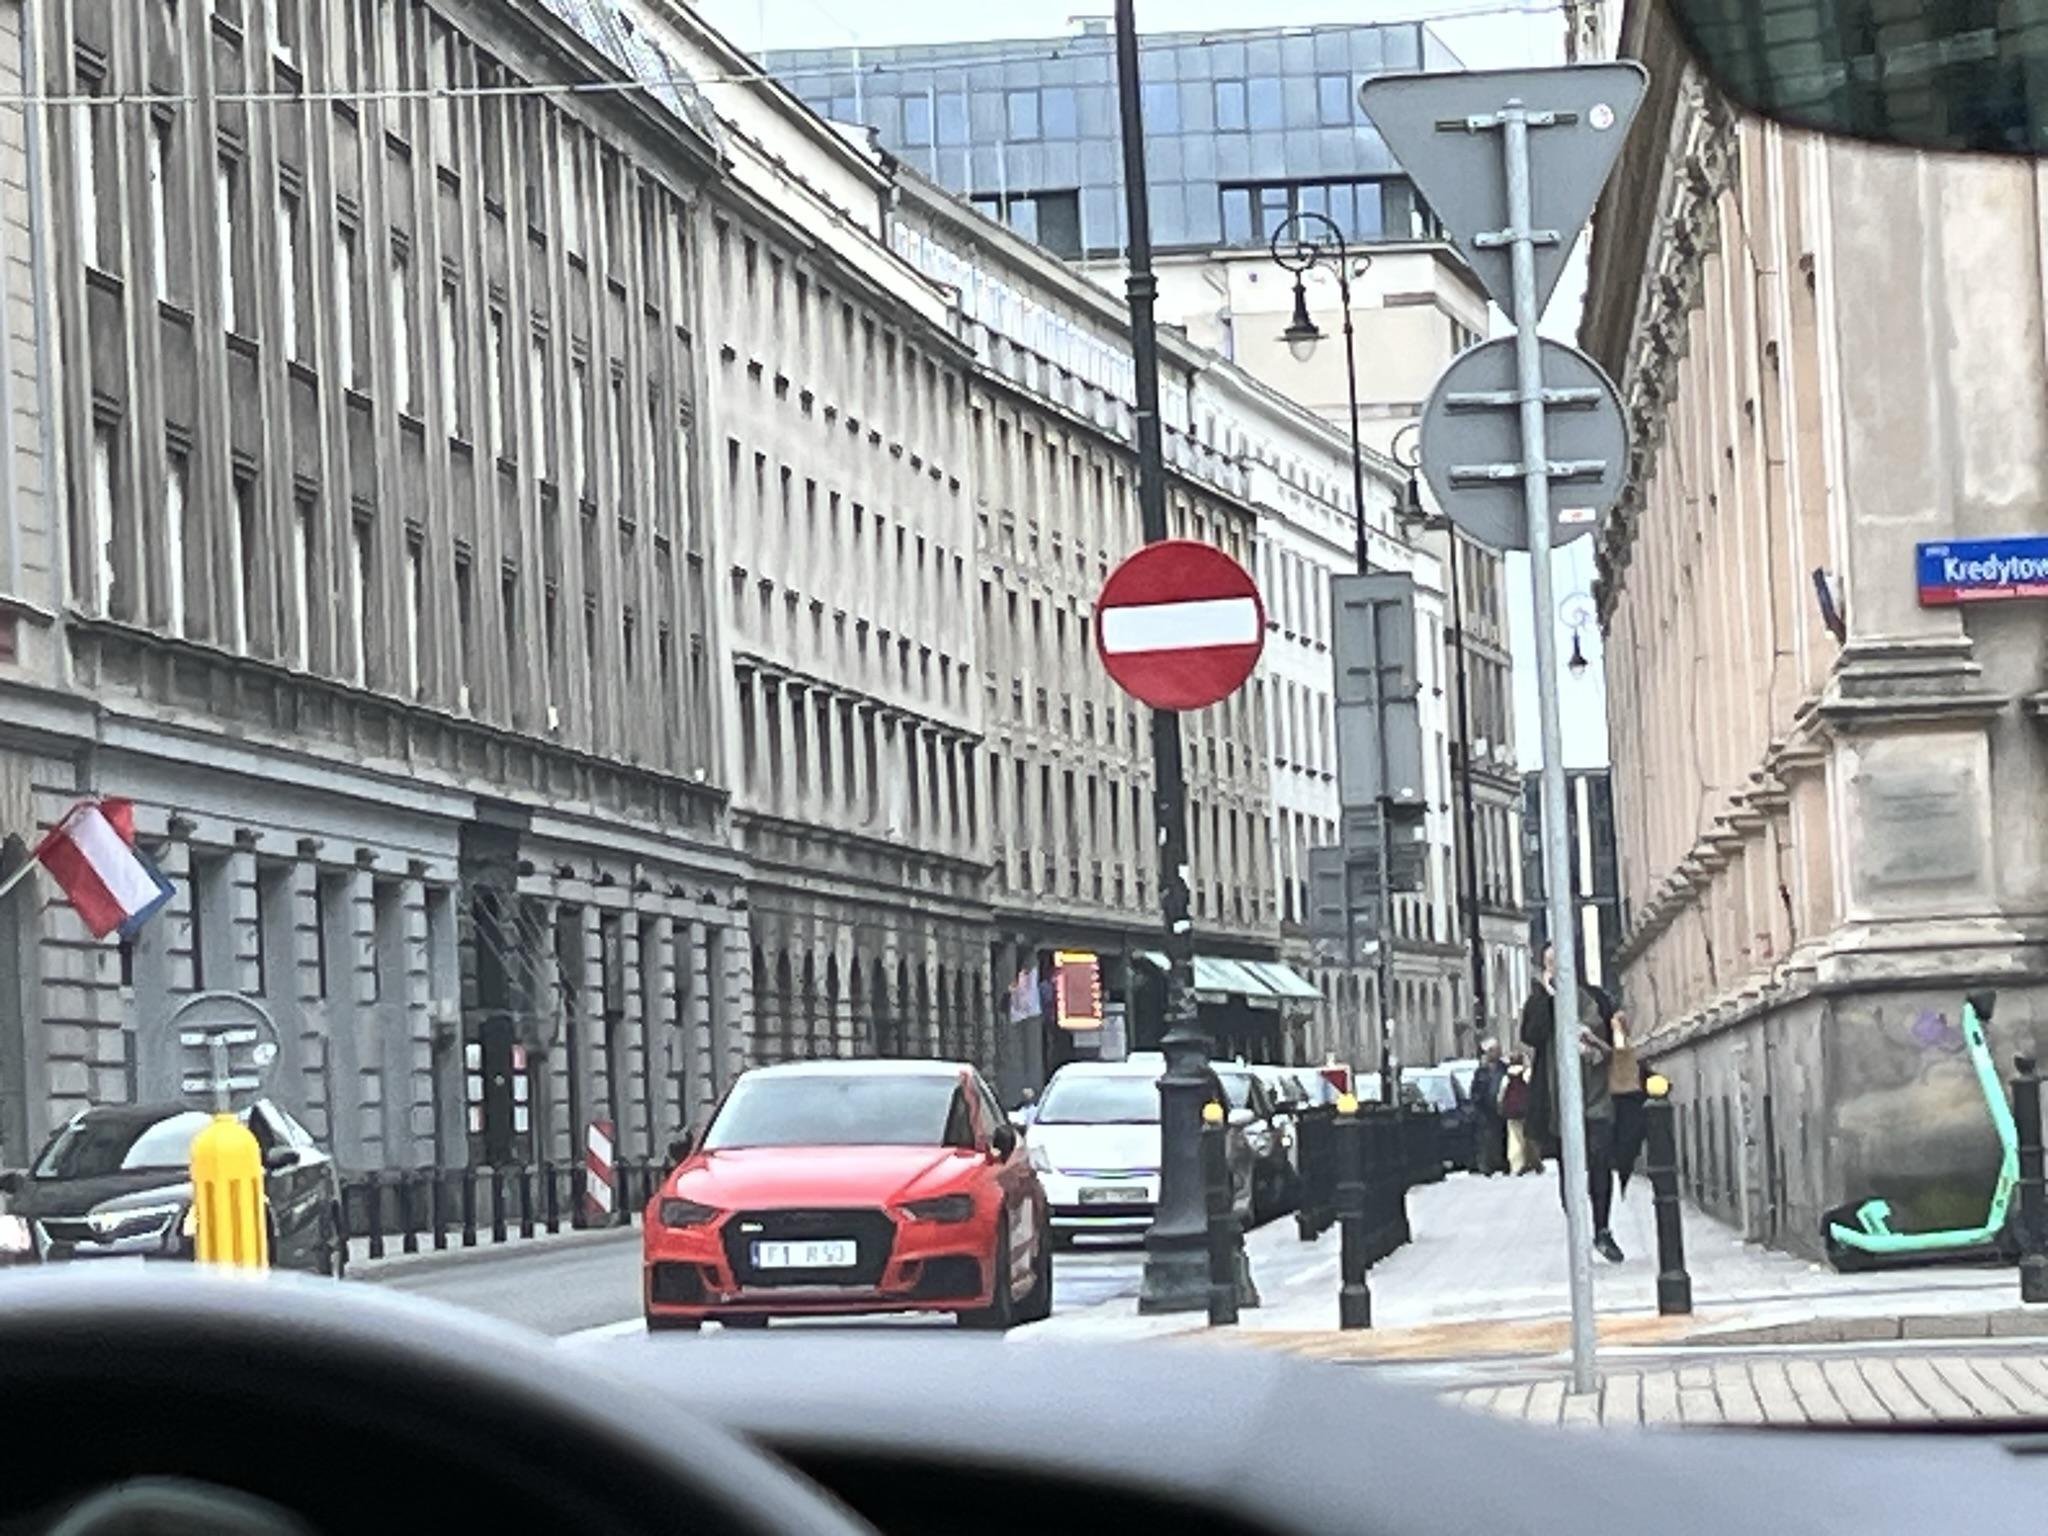prohibitory: (1093, 537, 1268, 715)
